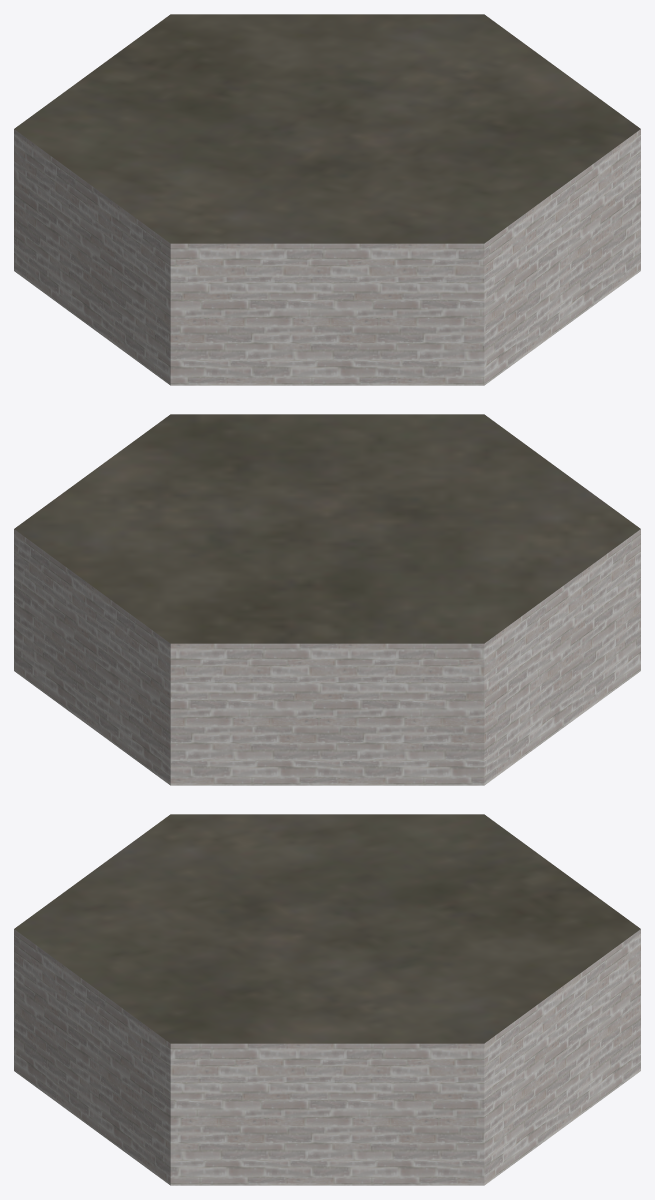
The model's file is WumpusRoom.fbx.
3 views of the same model, one above another, from view 1: azimuth 30°, elevation 25°; view 2: azimuth 150°, elevation 25°; view 3: azimuth 270°, elevation 25° (orthographic).
Parts seen in each view (by area): view 1: Floor and Ceiling, Walls; view 2: Floor and Ceiling, Walls; view 3: Floor and Ceiling, Walls.
Part boxes in pixels (x1=…): Floor and Ceiling: x1=14, y1=14, x2=640, y2=243; Walls: x1=14, y1=129, x2=640, y2=385; Floor and Ceiling: x1=14, y1=414, x2=640, y2=643; Walls: x1=14, y1=529, x2=640, y2=785; Floor and Ceiling: x1=14, y1=814, x2=640, y2=1043; Walls: x1=14, y1=929, x2=640, y2=1185.
Size of the model in its own units: 2773 by 805 by 3200.
